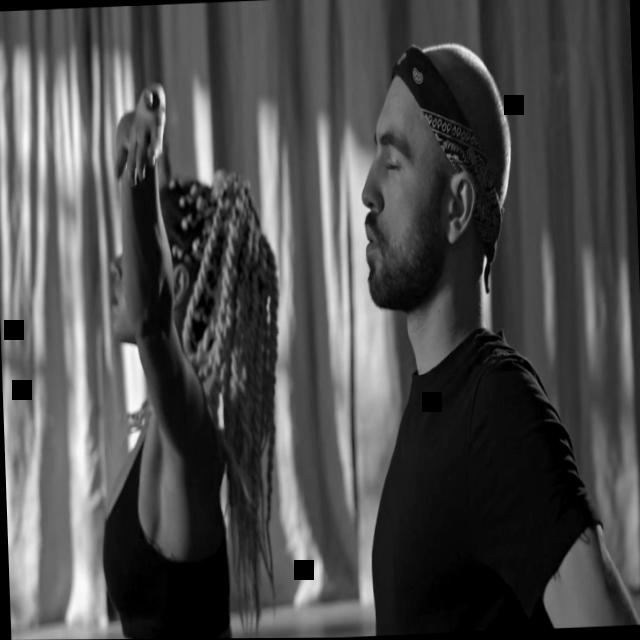NO-Mask: (356, 89, 457, 314), (104, 240, 131, 344)
